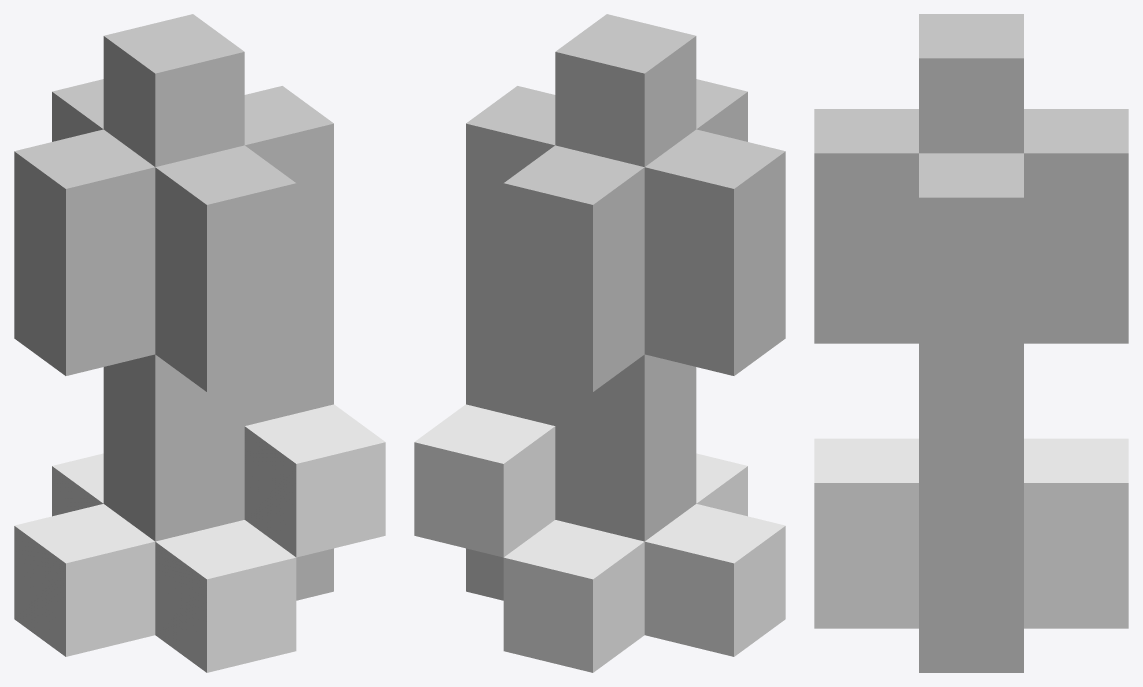
File: SkelBossRightQuad.dae
3 renders of one model, left to right at view 1: azimuth 30°, elevation 25°; view 2: azimuth 150°, elevation 25°; view 3: azimuth 270°, elevation 25°, orthographic.
Visible parts, largest first — view 1: SkelBossRightQuad; view 2: SkelBossRightQuad; view 3: SkelBossRightQuad.
Part boxes in pixels (x1=…): SkelBossRightQuad: x1=14, y1=14, x2=385, y2=672; SkelBossRightQuad: x1=414, y1=14, x2=785, y2=672; SkelBossRightQuad: x1=814, y1=14, x2=1128, y2=672.
Bounding box in the file's own units: 0.3 × 0.3 × 0.6.
1 material, 1 textured.
